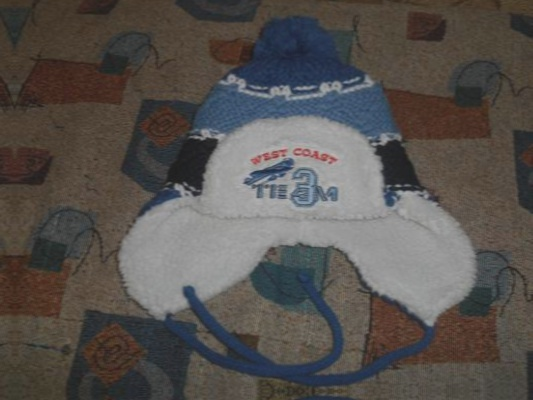Hat: (102, 13, 502, 349)
